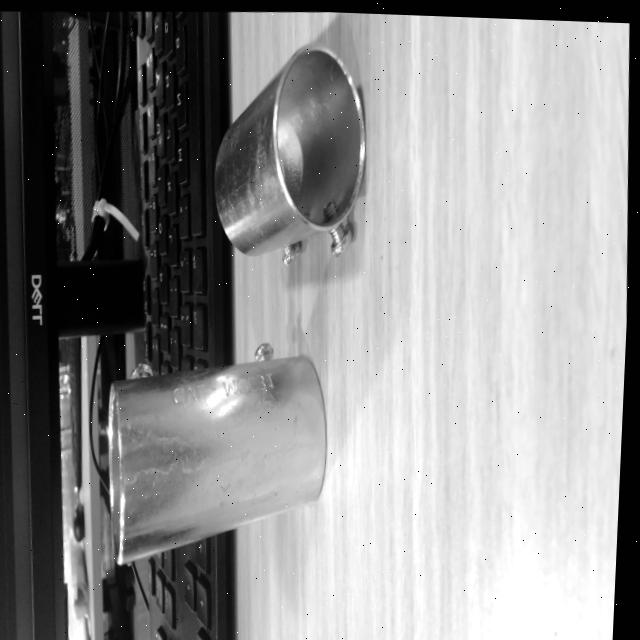Co_Lon: (67, 313, 354, 565)
Co_Nho: (195, 35, 377, 284)
